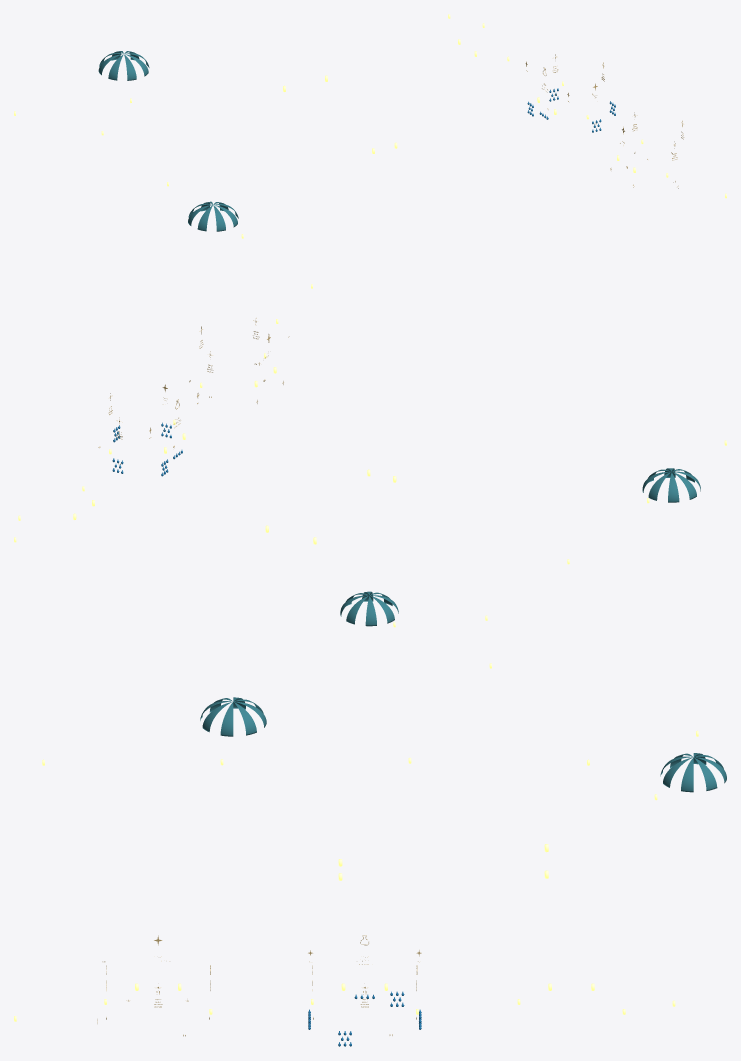
Rendered from Neris-03.glb.
3 renders of one model, top to bottom at view 1: azimuth 30°, elevation 25°; view 2: azimuth 150°, elevation 25°; view 3: azimuth 270°, elevation 25°, orthographic. The views are drawn at different scales.
Parts seen in each view (by area): view 1: Teal Enamel Alternate; view 2: Teal Enamel Alternate; view 3: Teal Enamel Alternate, Warm Lantern.001.
Boxes of the visible parts, bbox=[...] form: Teal Enamel Alternate: bbox=[98, 51, 238, 231]; Teal Enamel Alternate: bbox=[340, 468, 700, 626]; Teal Enamel Alternate: bbox=[200, 697, 726, 792]; Warm Lantern.001: bbox=[14, 730, 698, 1021].
Bounding box in the file's own units: 74.49 × 8.5 × 75.9.
